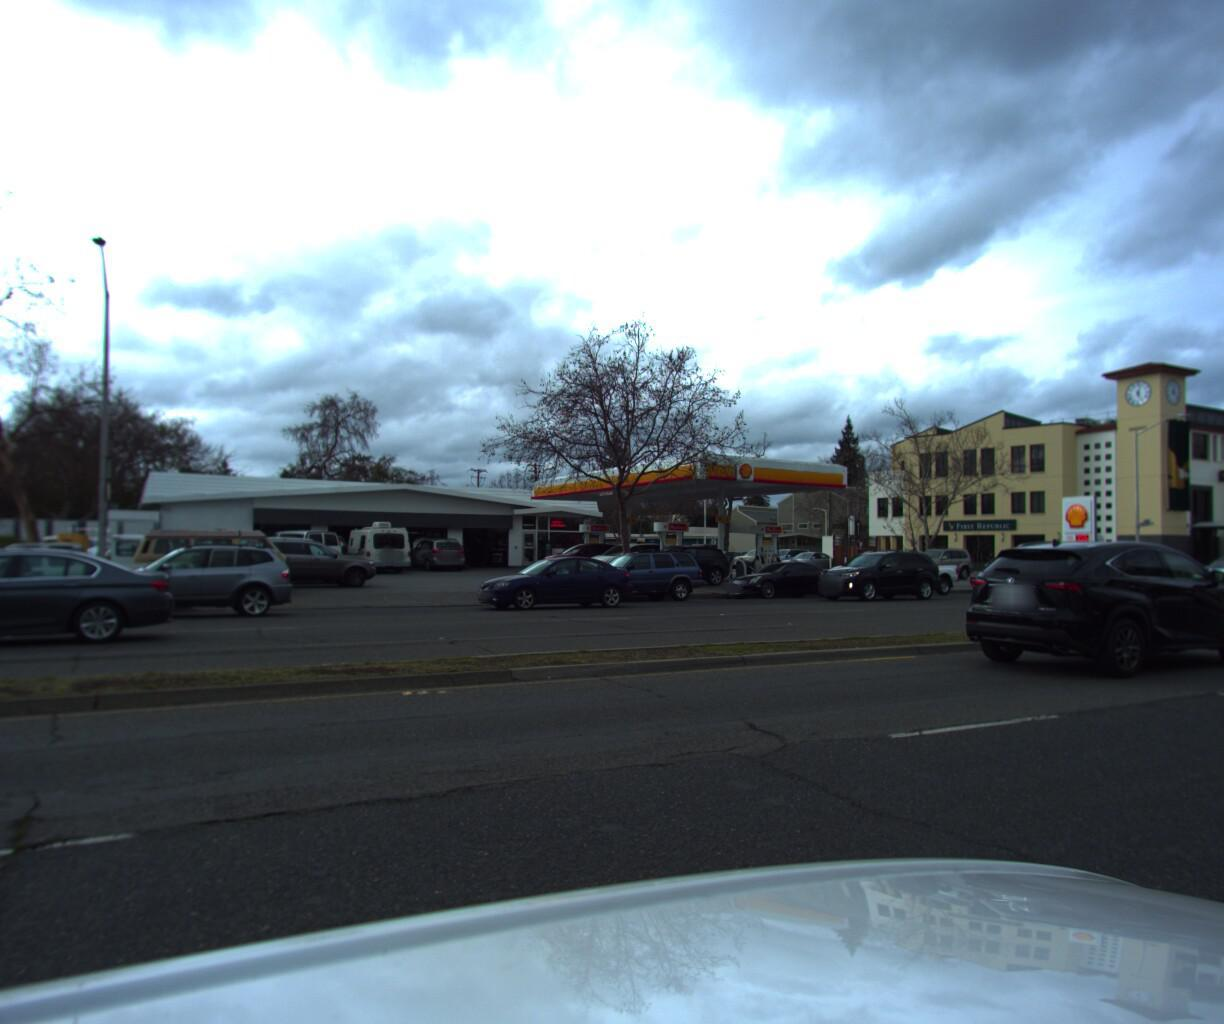car: (940, 540, 1224, 682), (0, 550, 192, 660), (72, 539, 300, 620), (0, 535, 188, 622), (132, 524, 297, 593), (468, 557, 637, 613), (557, 548, 706, 601), (808, 544, 950, 599), (258, 535, 387, 589), (236, 536, 367, 585), (836, 548, 964, 596), (615, 539, 739, 584), (572, 535, 690, 581), (718, 557, 847, 598), (261, 525, 351, 573), (534, 538, 636, 573), (893, 543, 975, 578), (402, 534, 473, 569), (309, 503, 371, 542), (371, 519, 435, 555), (436, 533, 499, 565), (1182, 545, 1224, 593), (770, 547, 843, 571), (0, 456, 9, 650)
other_vehicle: (332, 517, 417, 570), (1028, 541, 1108, 575)
